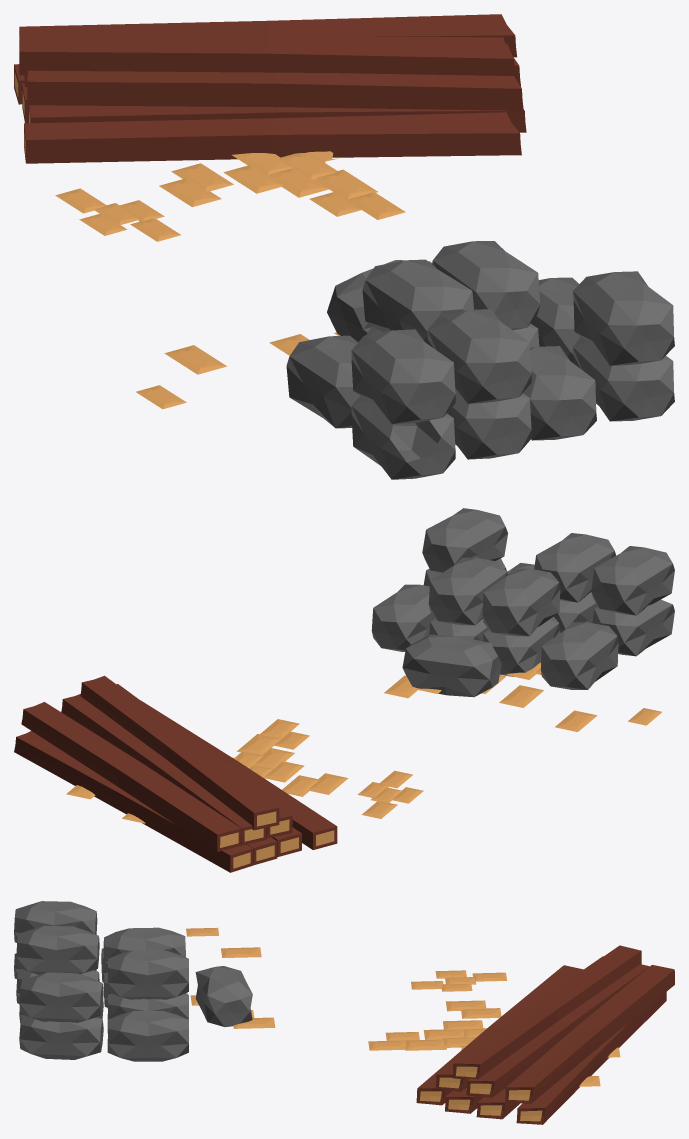
The model's file is ConstructionSite.fbx.
The picture shows the model from 3 angles, top to bottom: view 1: azimuth 30°, elevation 25°; view 2: azimuth 150°, elevation 25°; view 3: azimuth 270°, elevation 25°; orthographic projection. The views are drawn at different scales.
Parts seen in each view (by area): view 1: ConstructionSite.003; view 2: ConstructionSite.003; view 3: ConstructionSite.003.
Boxes of the visible parts, left/top/right/bottom form: ConstructionSite.003: left=14, top=14, right=674, bottom=479; ConstructionSite.003: left=14, top=508, right=674, bottom=872; ConstructionSite.003: left=14, top=901, right=674, bottom=1124.
Bounding box in the file's own units: 728 × 136 × 1044.
